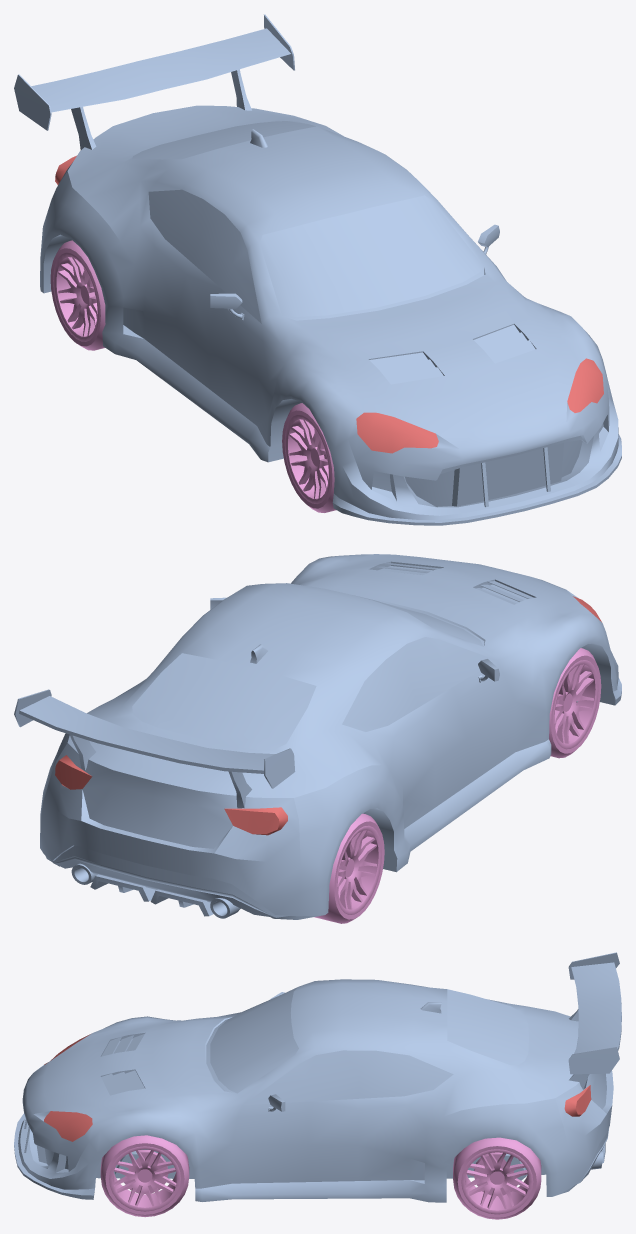
File: Car Toyota GT86.fbx
The picture shows the model from 3 angles, top to bottom: view 1: azimuth 30°, elevation 25°; view 2: azimuth 150°, elevation 25°; view 3: azimuth 270°, elevation 25°; orthographic projection. The views are drawn at different scales.
Visible parts, largest first — view 1: Car Toyota GT68, WheelRR, WheelFR; view 2: Car Toyota GT68, WheelRR, WheelFR; view 3: Car Toyota GT68, WheelRL, WheelFL.
Boxes of the visible parts, x1,y1,x2,y2 form: Car Toyota GT68: [14, 14, 621, 525]; WheelRR: [50, 240, 105, 350]; WheelFR: [282, 403, 336, 512]; Car Toyota GT68: [14, 554, 621, 919]; WheelRR: [314, 813, 384, 923]; WheelFR: [549, 648, 601, 758]; Car Toyota GT68: [14, 952, 621, 1202]; WheelRL: [453, 1137, 541, 1219]; WheelFL: [100, 1135, 189, 1217].
Size of the model in its own units: 211 by 146 by 480.
